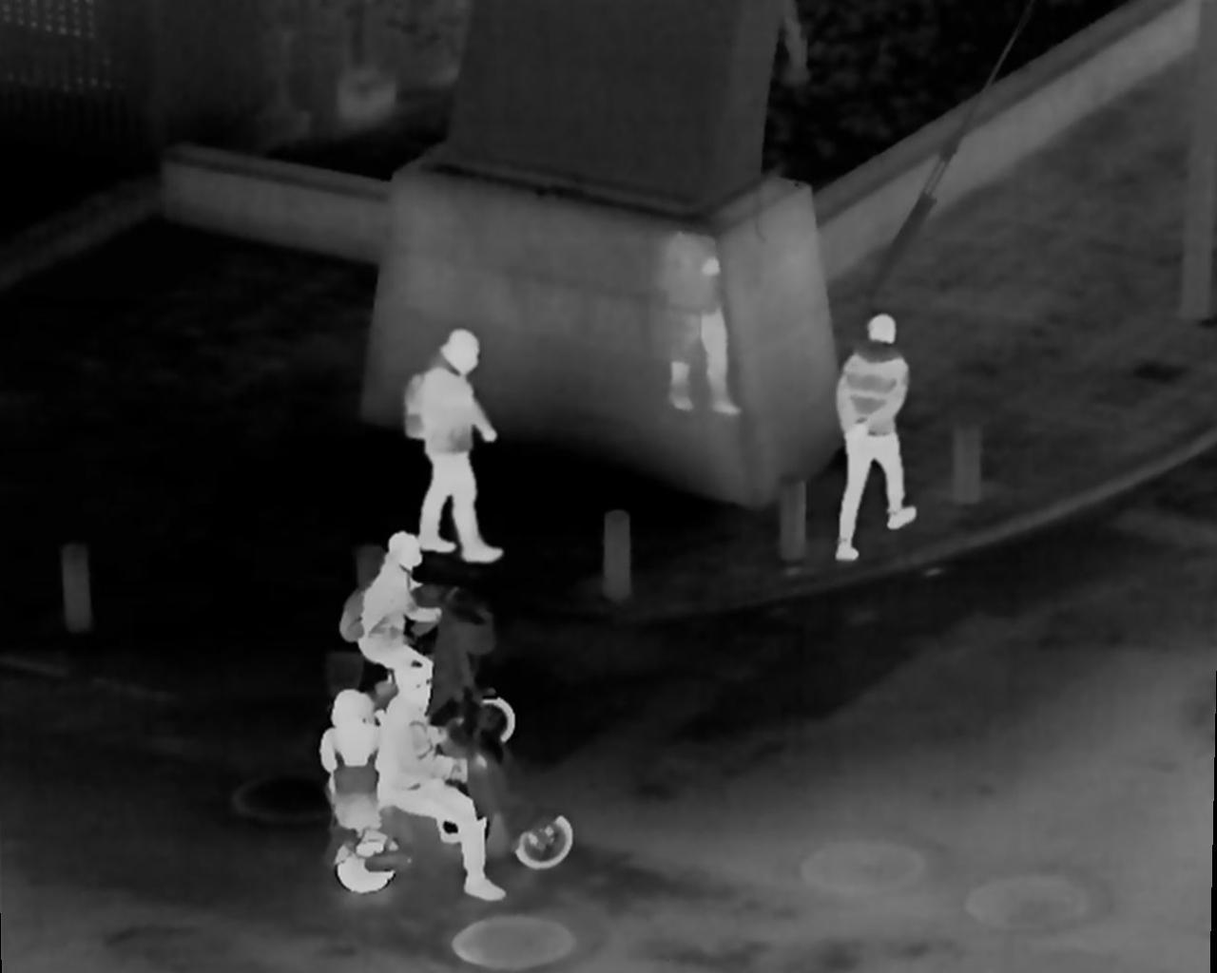person: (382, 684, 498, 911), (402, 330, 508, 562), (828, 312, 918, 563), (331, 534, 443, 705), (306, 677, 370, 830)
